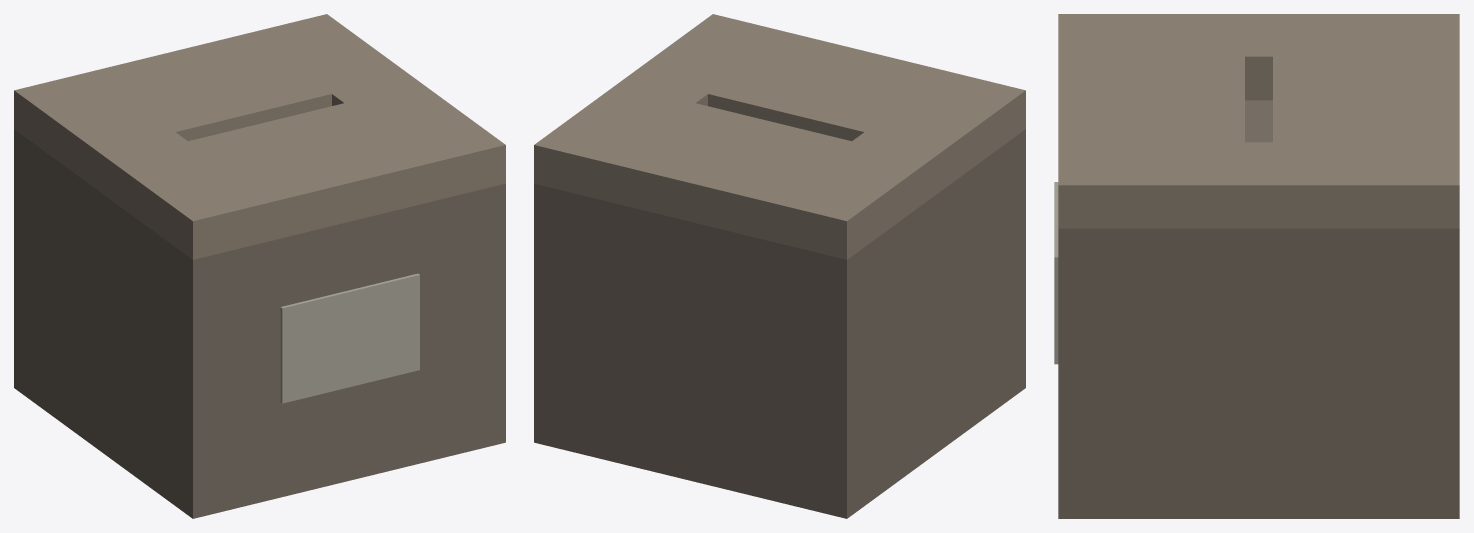
Rendered from ballot_box.glb.
The picture shows the model from 3 angles, left to right: view 1: azimuth 30°, elevation 25°; view 2: azimuth 150°, elevation 25°; view 3: azimuth 270°, elevation 25°; orthographic projection. The views are drawn at different scales.
Parts seen in each view (by area): view 1: ballot_box; view 2: ballot_box; view 3: ballot_box.
Part boxes in pixels (x1,y1,x2,y2): ballot_box: (14,14,505,518); ballot_box: (534,14,1025,518); ballot_box: (1054,14,1459,518).
Bounding box in the file's own units: 0.55 × 0.5 × 0.55.
